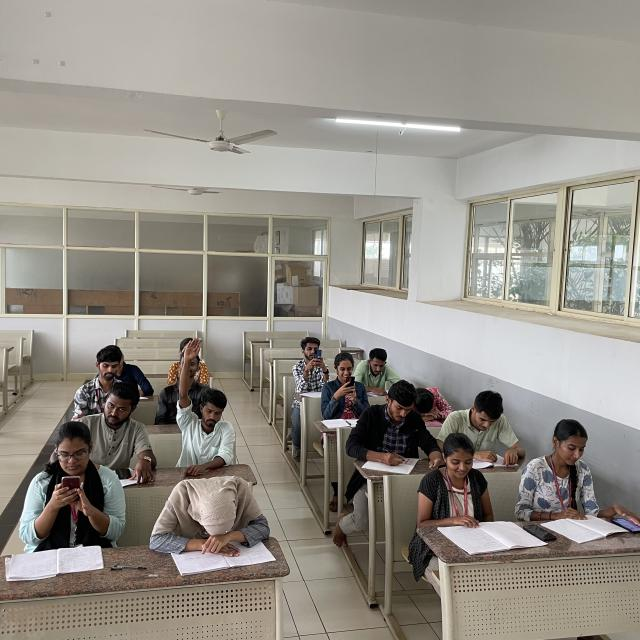Hand Rising: (176, 339, 233, 457)
Reading: (416, 436, 530, 556), (549, 410, 615, 542), (446, 391, 525, 471), (354, 343, 403, 399)
Sleeping: (145, 471, 279, 551), (414, 384, 458, 422)
Using Phone: (36, 425, 120, 540), (324, 351, 372, 415), (294, 334, 329, 396)
Writing: (353, 383, 433, 477)
